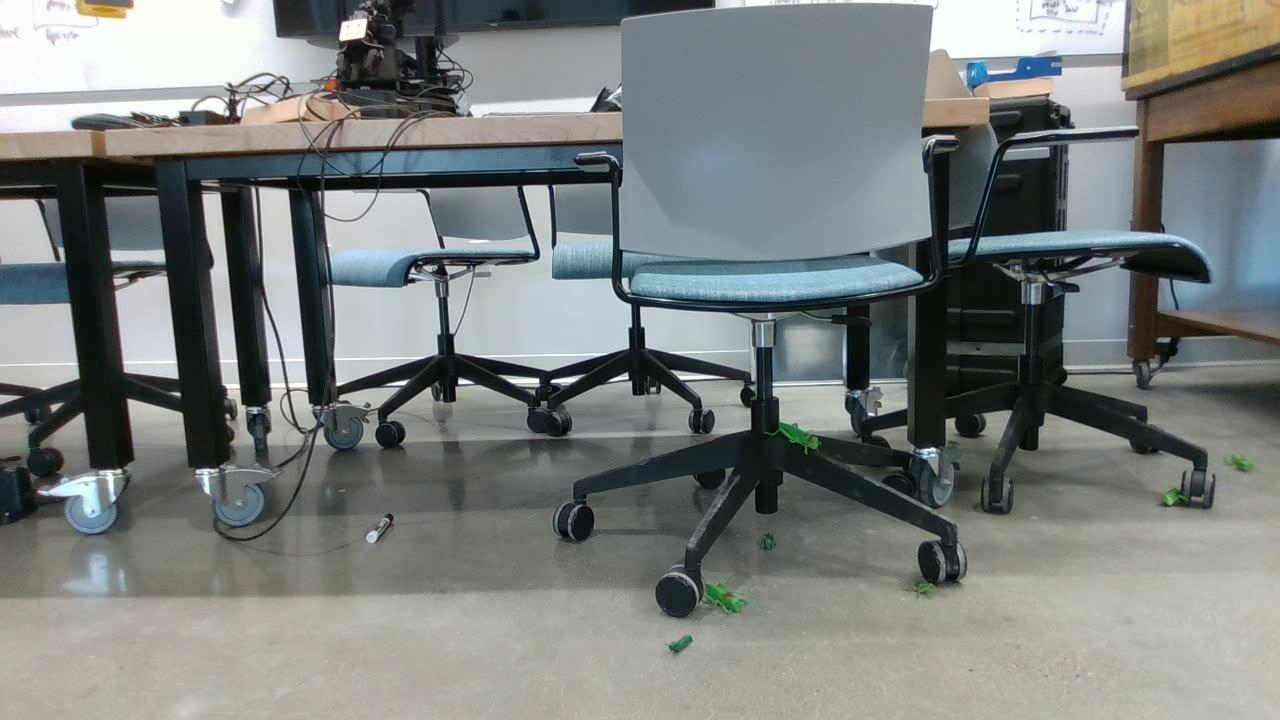grasshopper: (701, 579, 752, 619), (776, 419, 824, 461), (1153, 488, 1186, 511), (1227, 454, 1253, 475)
